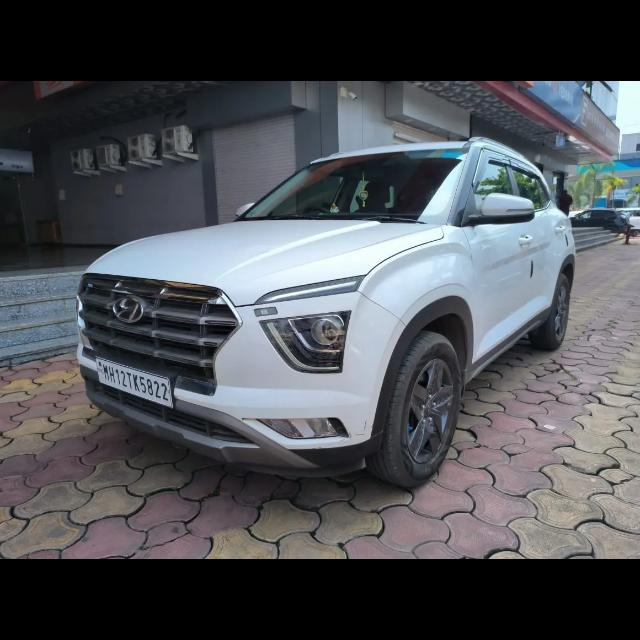number-plate: (94, 357, 172, 408)
vehicles: (76, 128, 574, 511)
